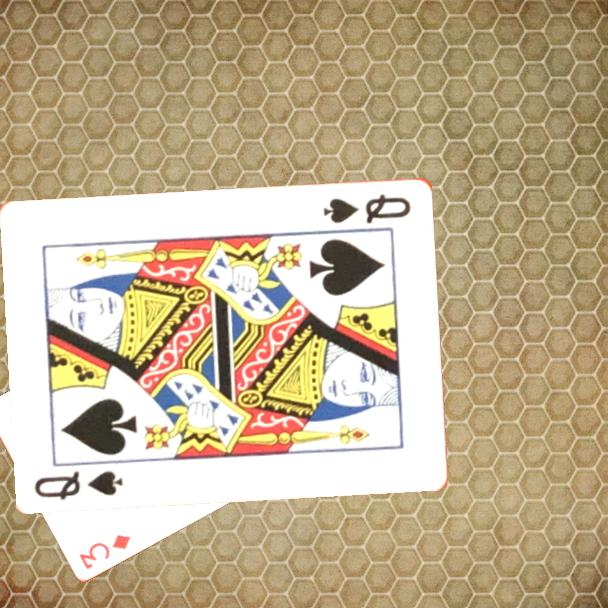d03: (76, 531, 133, 573)
s12: (31, 467, 127, 503), (320, 190, 414, 226)
